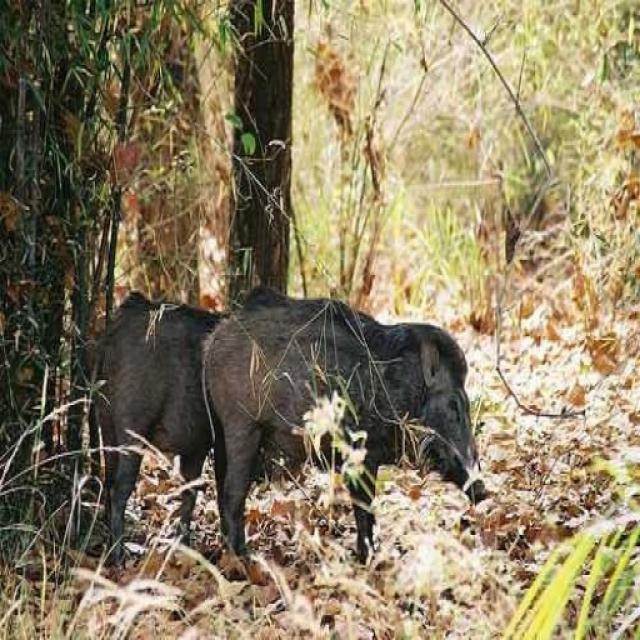pig: (182, 286, 540, 566)
